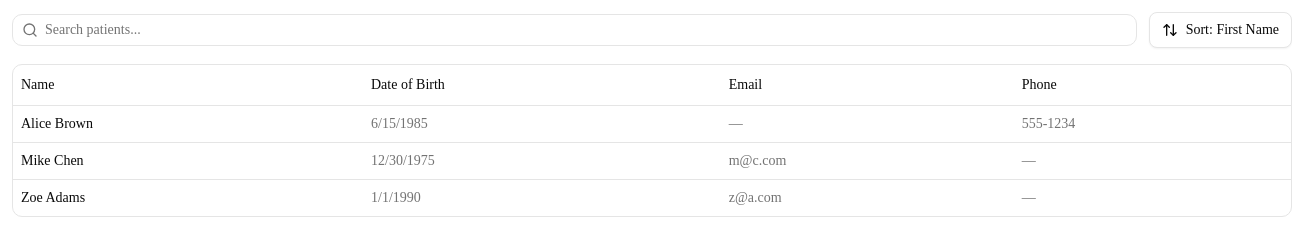
Test: PatientTable › shows 'No patients match your search.' for zero results
This screenshot has width=1304, height=240.
Type "xxxxxxxx" into the field with placeholder "Search patients..." at (574, 30), box [12,14,1137,46]
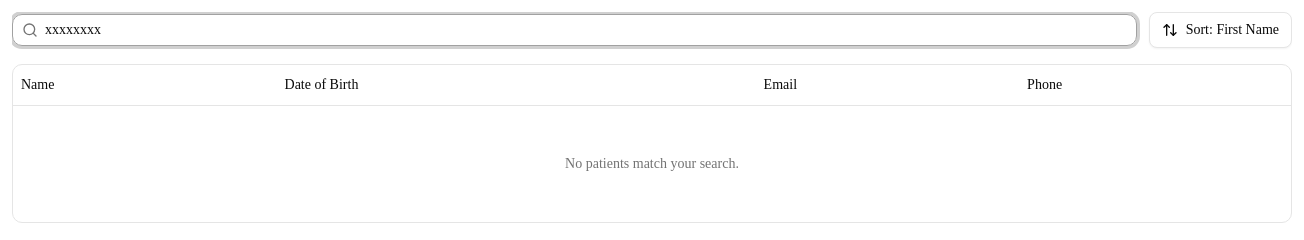
Result: the text "No patients match your search." is shown at [13,105,1291,222]
